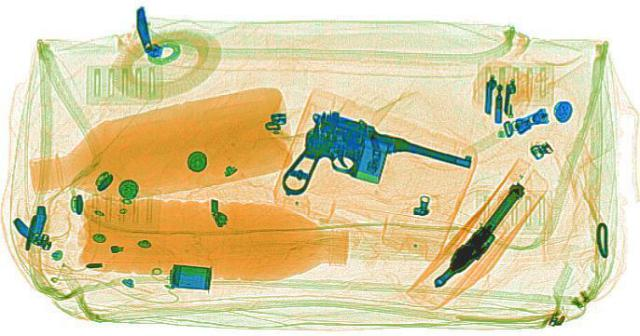Gun: (215, 100, 485, 228), (409, 175, 557, 292)
